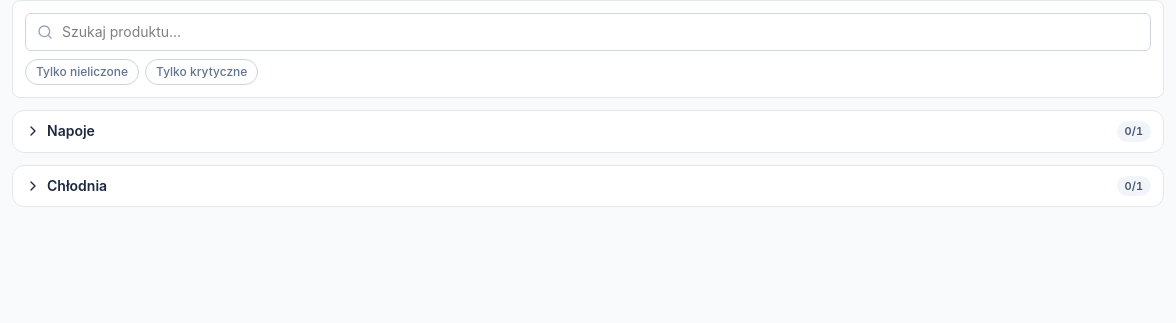
Test: InventoryCountGrid toolbar › 'tylko krytyczne' keeps critical products only
Click the button "Tylko krytyczne": (202, 72) [145,59,258,85]
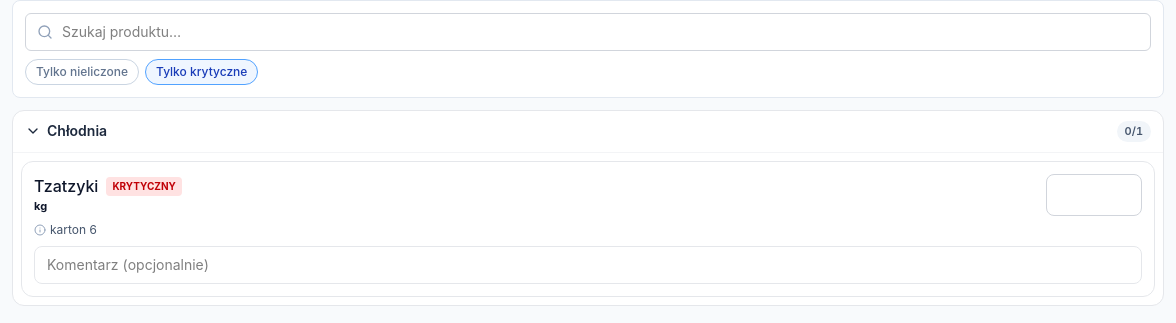
Now the text "Tzatzyki" is shown, box [34,174,98,198]
